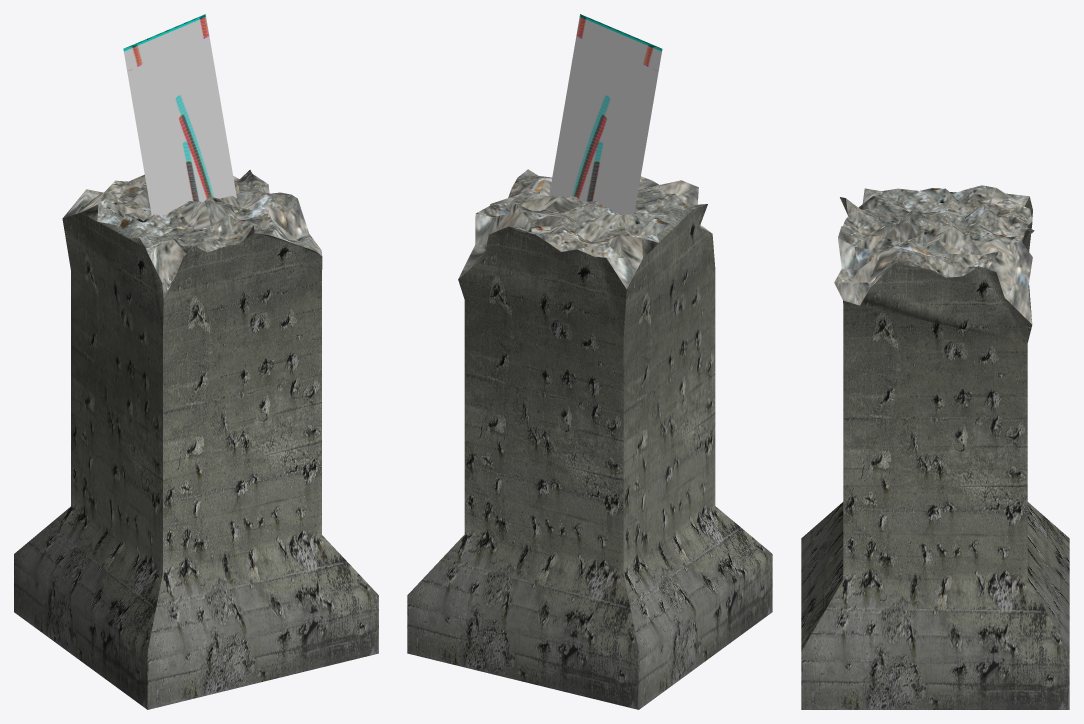
File: ConChunk1.FBX
3 views of the same model, side by side, from view 1: azimuth 30°, elevation 25°; view 2: azimuth 150°, elevation 25°; view 3: azimuth 270°, elevation 25° (orthographic).
Visible parts, largest first — view 1: Box01, Plane002; view 2: Box01, Plane002; view 3: Box01.
Boxes of the visible parts, x1,y1,x2,y2 form: Box01: (14, 170, 378, 709); Plane002: (123, 14, 236, 215); Box01: (407, 169, 772, 709); Plane002: (549, 14, 662, 215); Box01: (801, 185, 1069, 709).
Bounding box in the file's own units: 0.8054 × 2.05 × 0.8054.
Materials: 3 (3 with a texture image).
